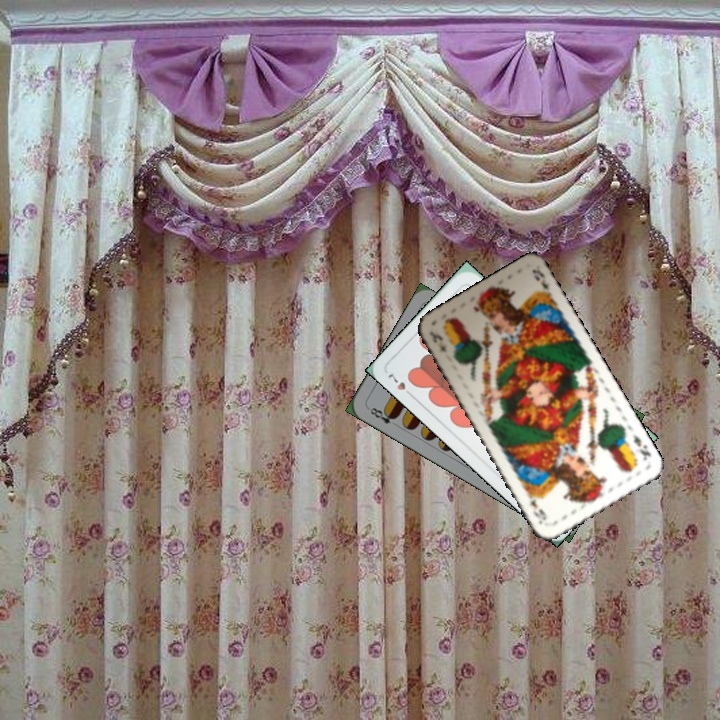E8: (364, 403, 399, 427)
EK: (629, 431, 654, 463), (426, 327, 449, 355)
H7: (384, 370, 416, 400)
